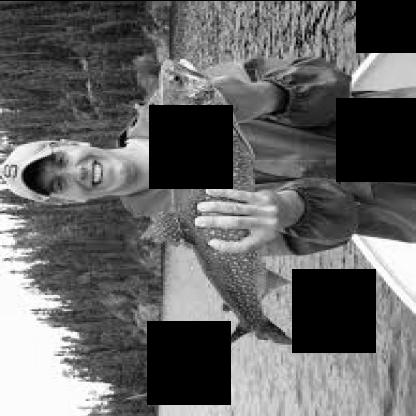fish: (141, 58, 301, 354)
